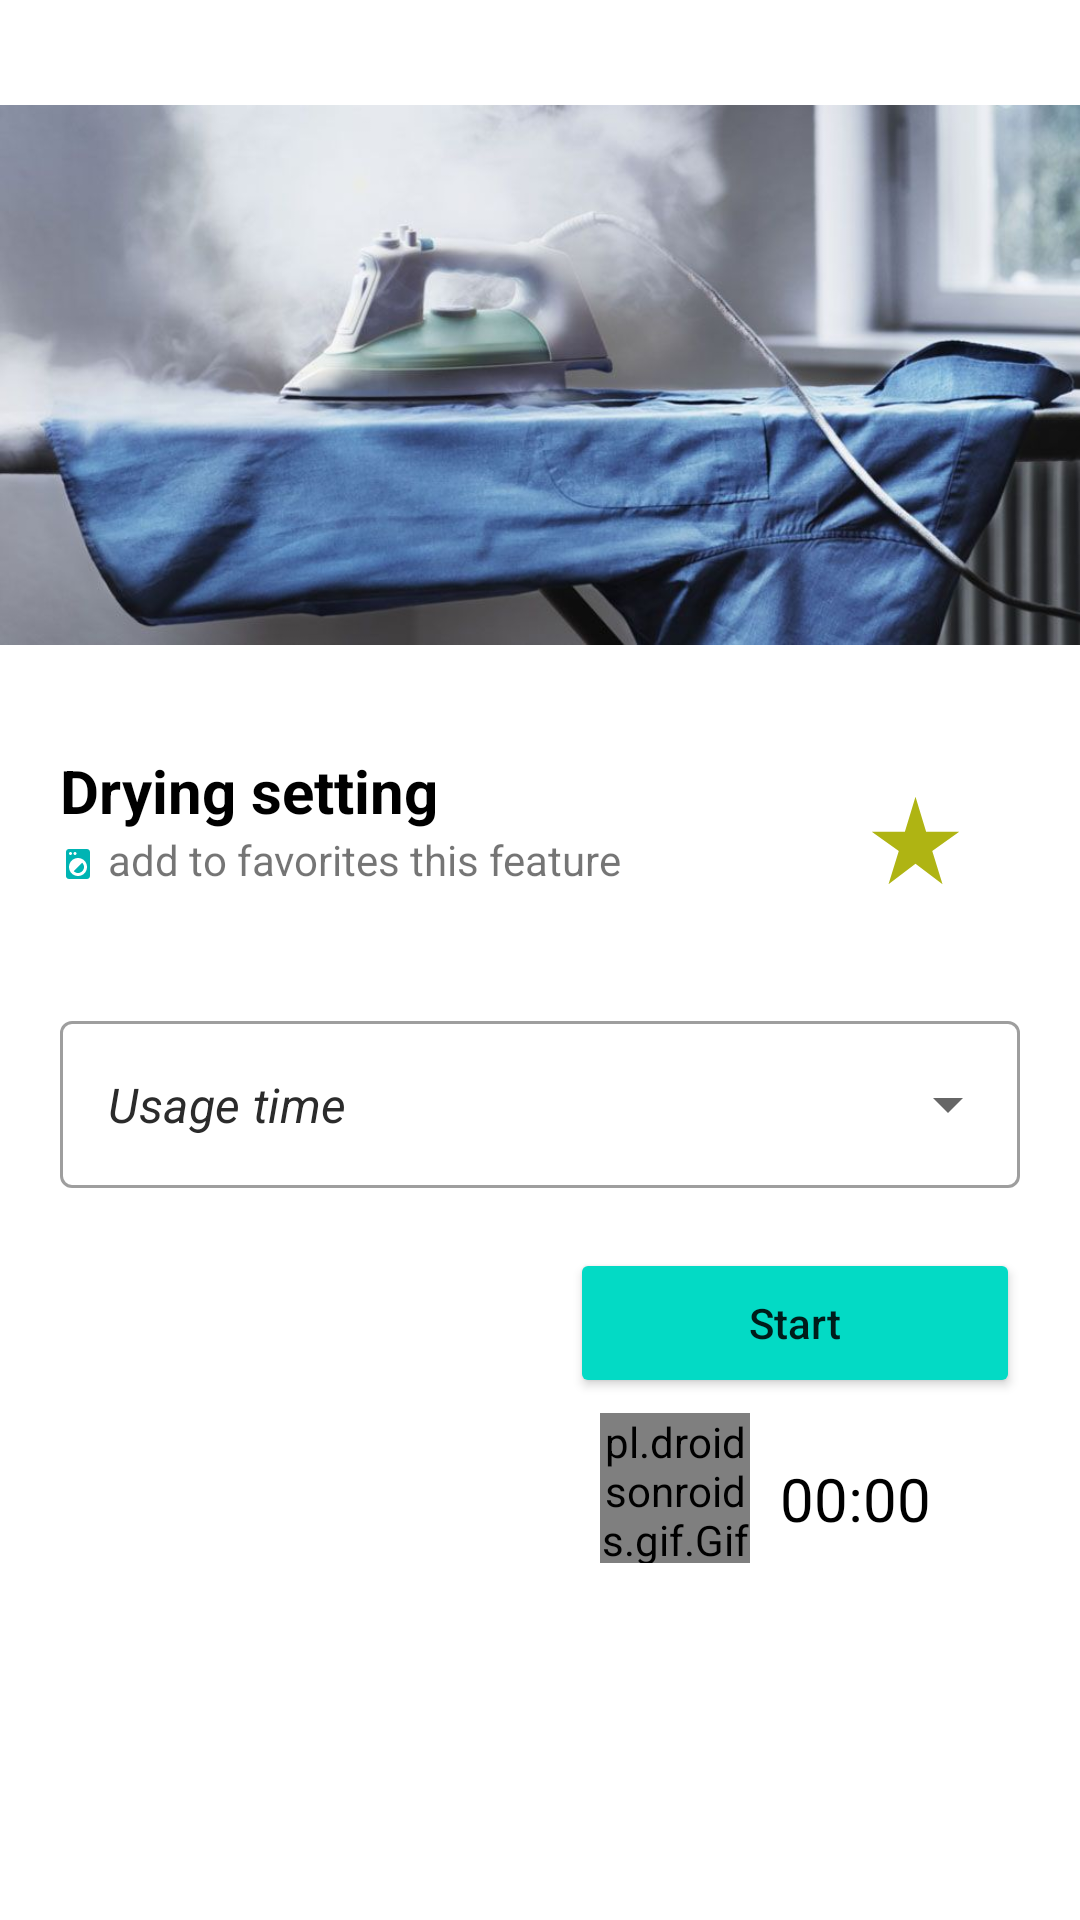

Point at icon controls on the screen. Image size 1080x1920, points as [x,y].
local laundry service: [78,864]
star rate: [915,840]
